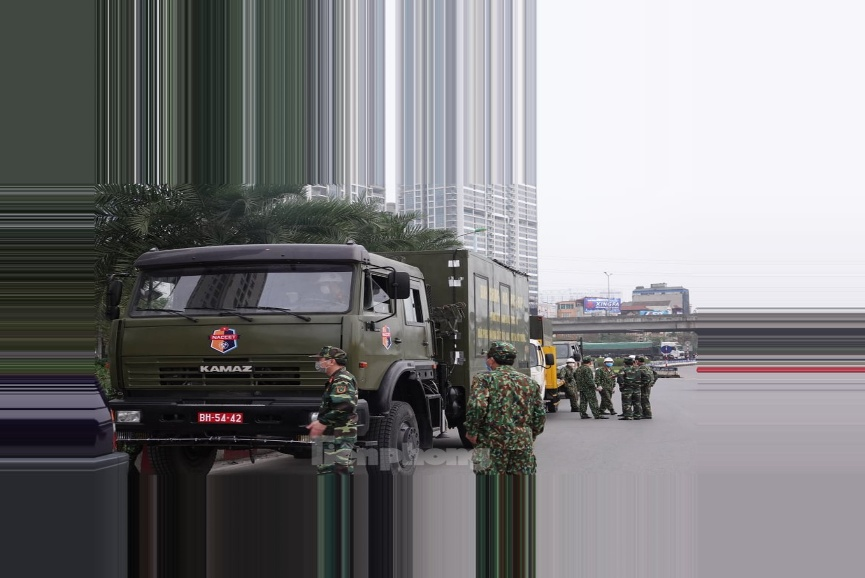plate: (194, 403, 249, 428)
